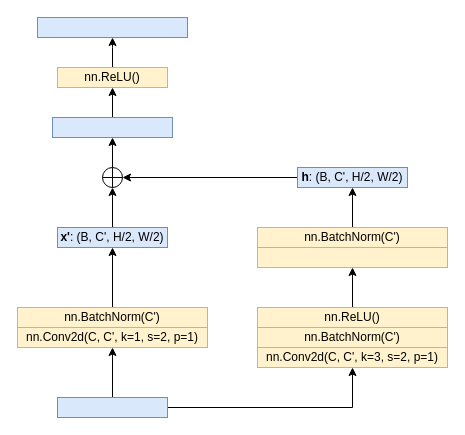
This 465x435 diagram has some shape labels left out. The shapes that lost their labels are listed below. From the top down, each one's centre as x and y in pixels, then its label:
At (112,27): "output : (B, C', H/2, W/2)".
At (112,127): "x'+h : (B, C', H/2, W/2)".
At (352,257): "nn.Conv2d(C', C', k=3, s=1, p=1)".
At (112,407): "x : (B, C, H, W)".
